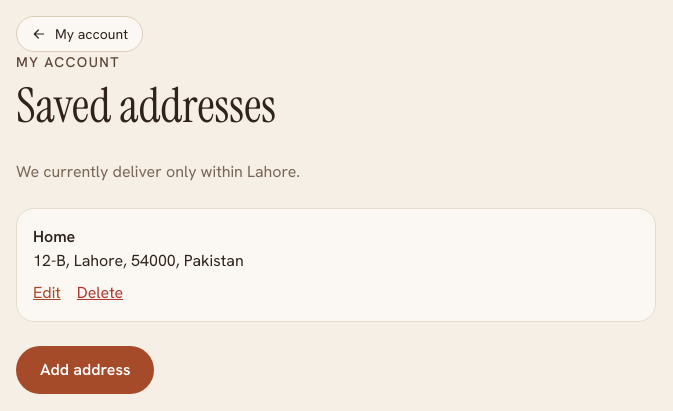
Test: requires a second click to delete
Expected: the text "Home" is shown, [33,226,75,247]
Click the button "Delete". click: coordinates (100, 293)
box: [77,281,123,305]
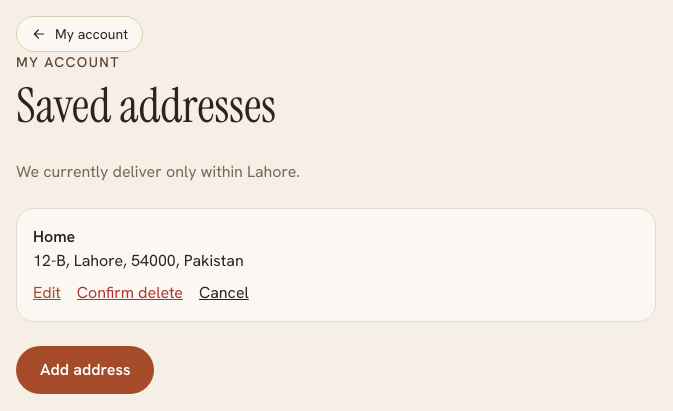
Click the button "Confirm delete". click: coordinates (130, 293)
box: [77,281,183,305]
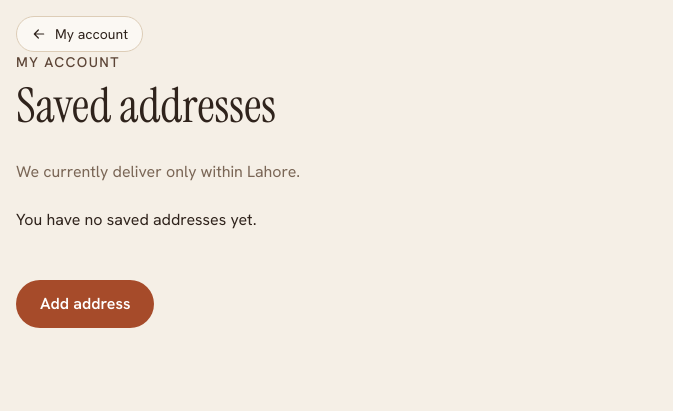
Expected: the text "You have no saved addresses yet." is shown, [16,209,256,230]
